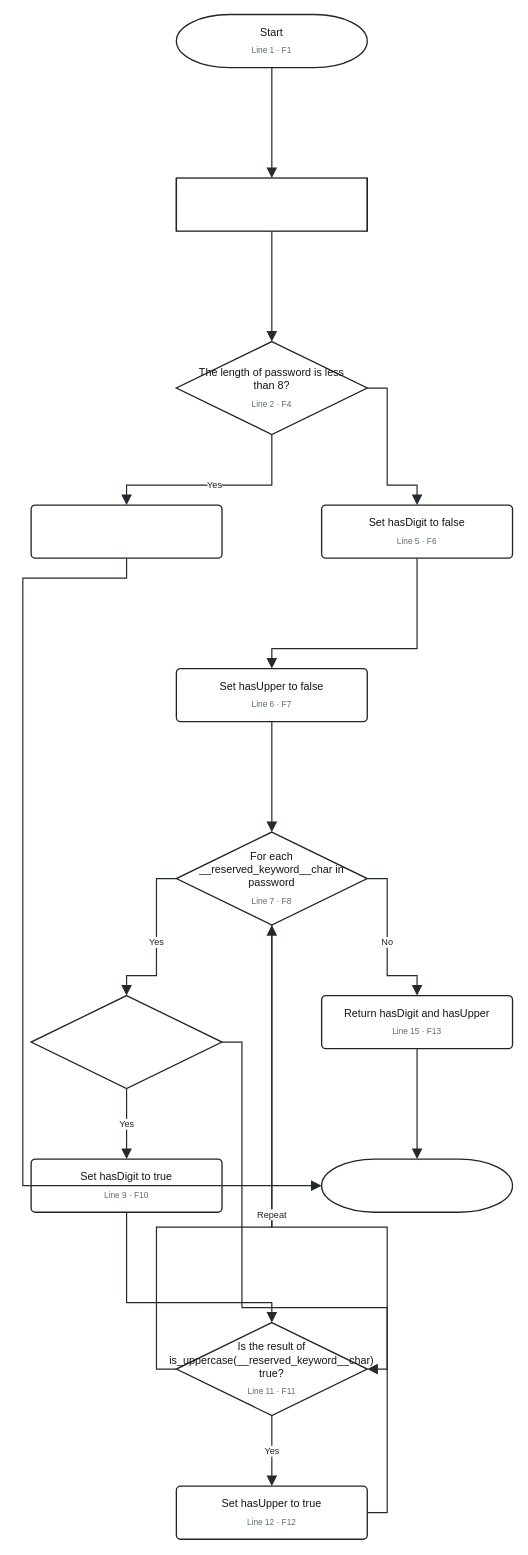
Image size: 528x1555. Some labels were removed from this diagram. Each missing label, with the centre of its shape:
"End Line 1 · F2" belongs at (417,1185).
"Is the result of is_digit(__reserved_keyword__char) true? Line 8 · F9" belongs at (126,1042).
"Return false Line 3 · F5" belongs at (126,531).
"Run function validatePassword with password Line 1 · F3" belongs at (271,204).
